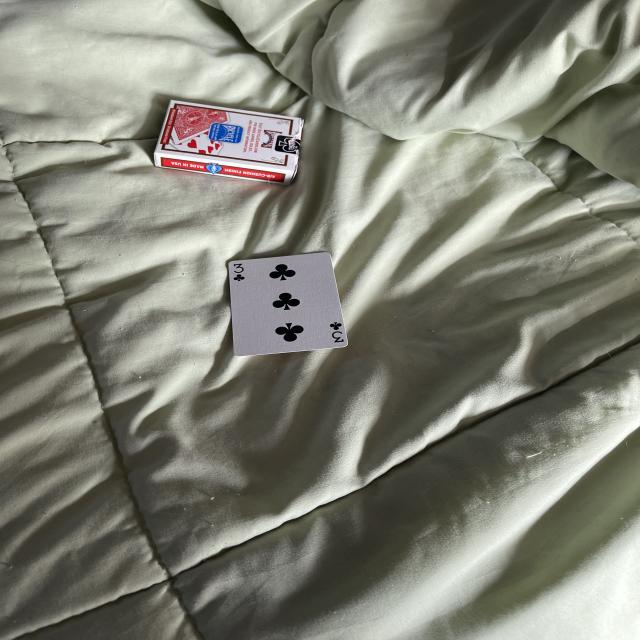3 of clubs: (198, 238, 368, 378)
